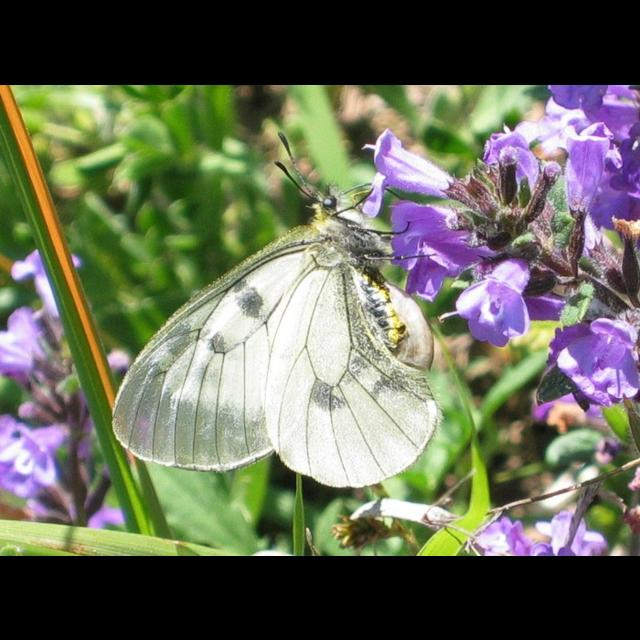Flower: (361, 85, 639, 348), (546, 309, 632, 417), (10, 245, 84, 327), (0, 417, 70, 485), (538, 510, 606, 554), (472, 521, 548, 555), (9, 308, 53, 364), (0, 329, 32, 377), (0, 464, 42, 496), (89, 506, 127, 532)
